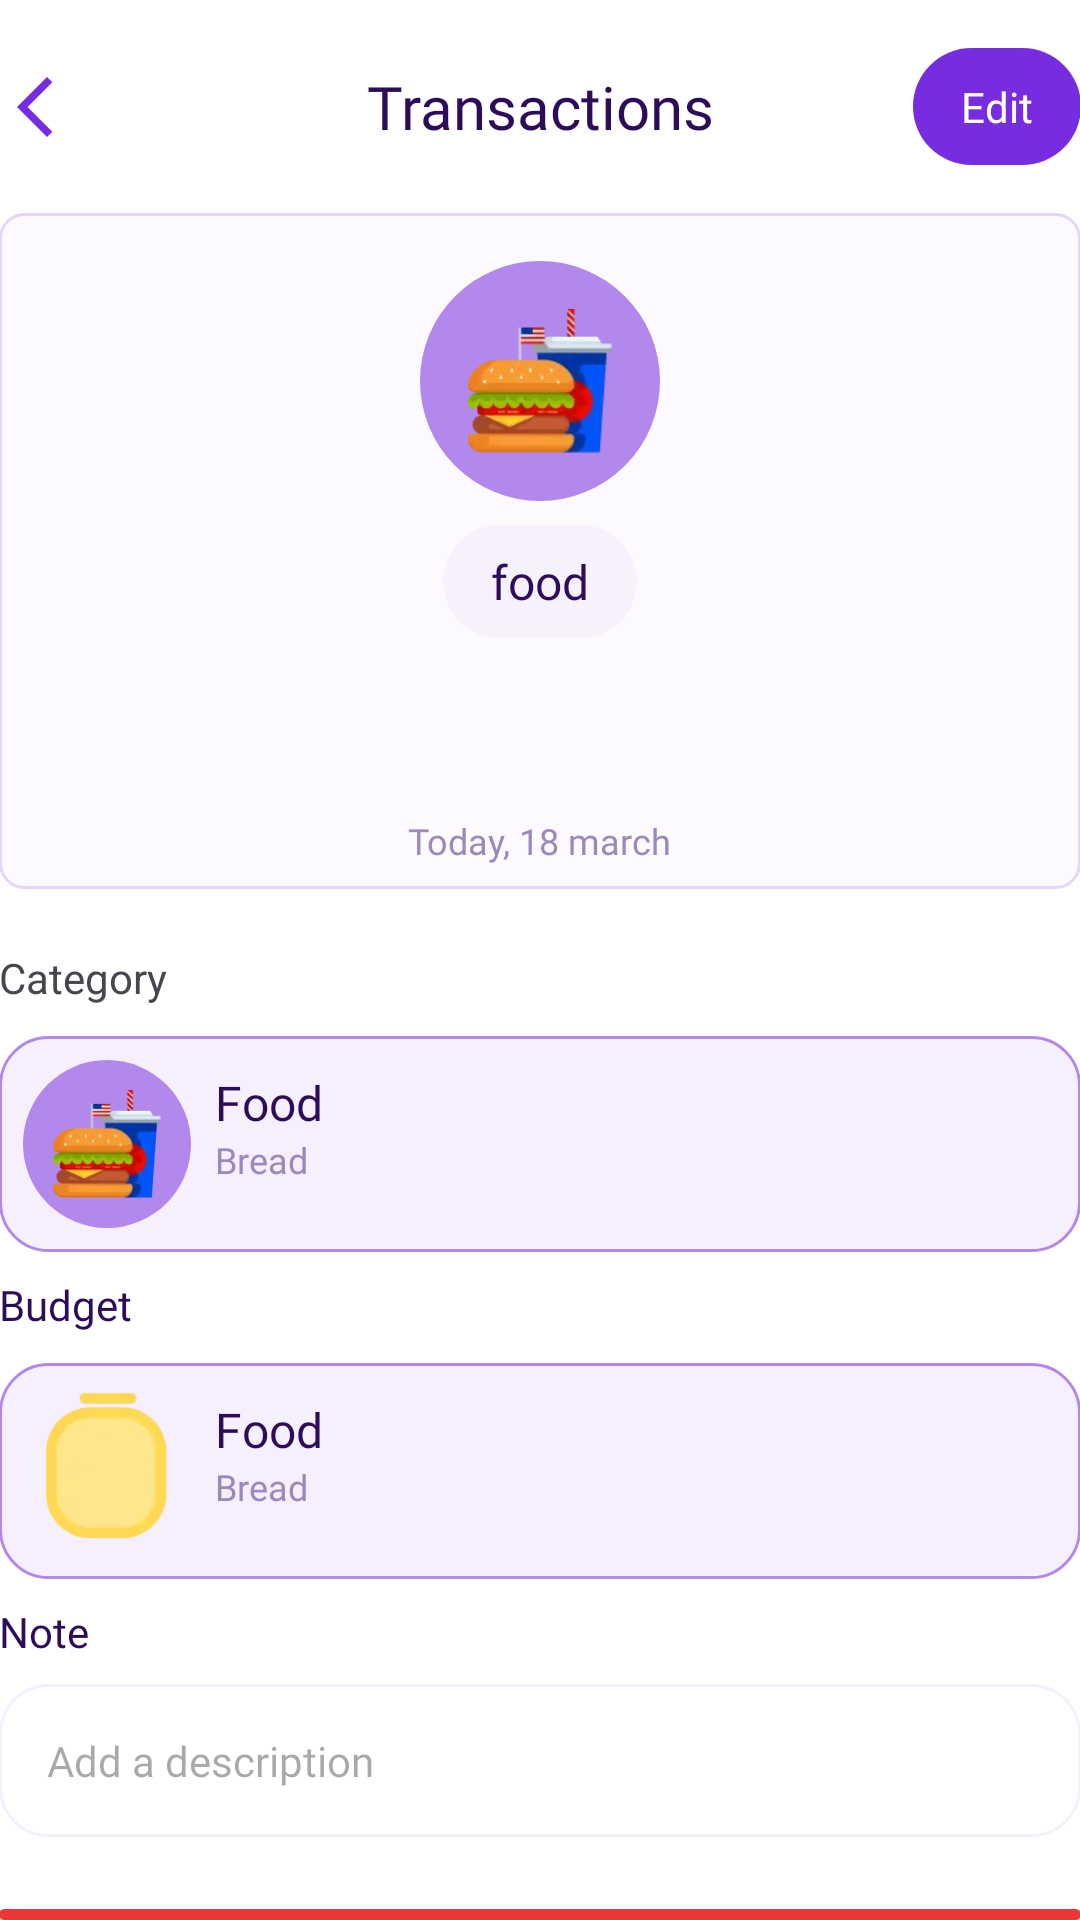

Point at icon controls on the screen. Image size 1080×1920, points as (x,y).
back: (34,107)
hmburger: (540,381), (107,1144)
